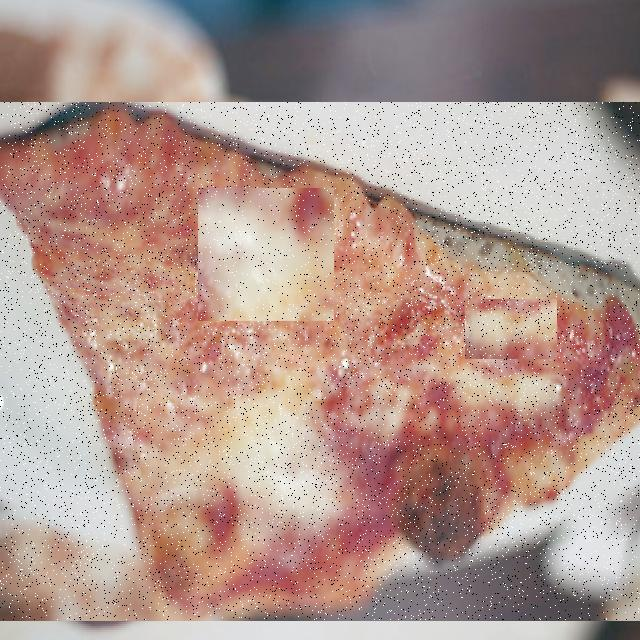Cheese: (198, 189, 334, 321), (465, 300, 557, 359)
Pizza: (0, 103, 640, 620)
